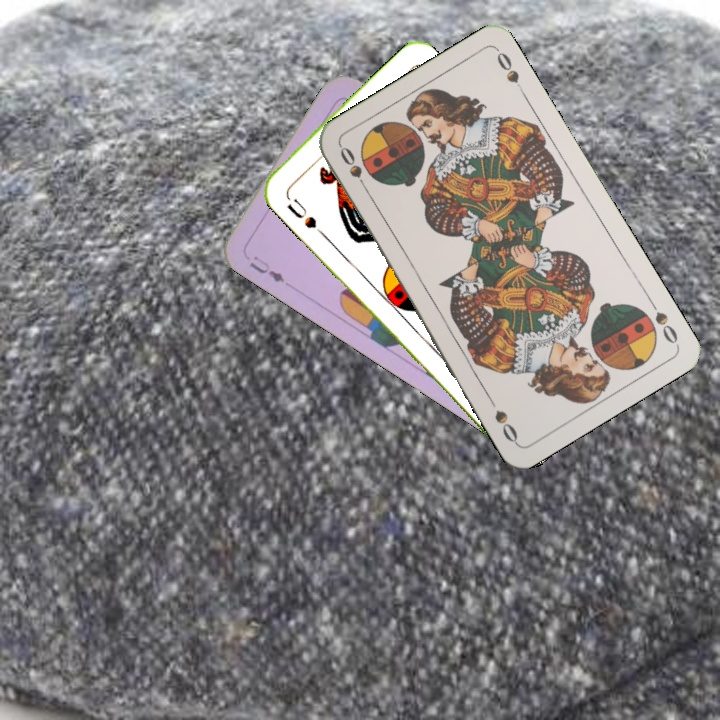EU: (245, 251, 288, 285)
SO: (335, 142, 372, 196), (644, 294, 681, 347)
SU: (281, 189, 326, 237)
